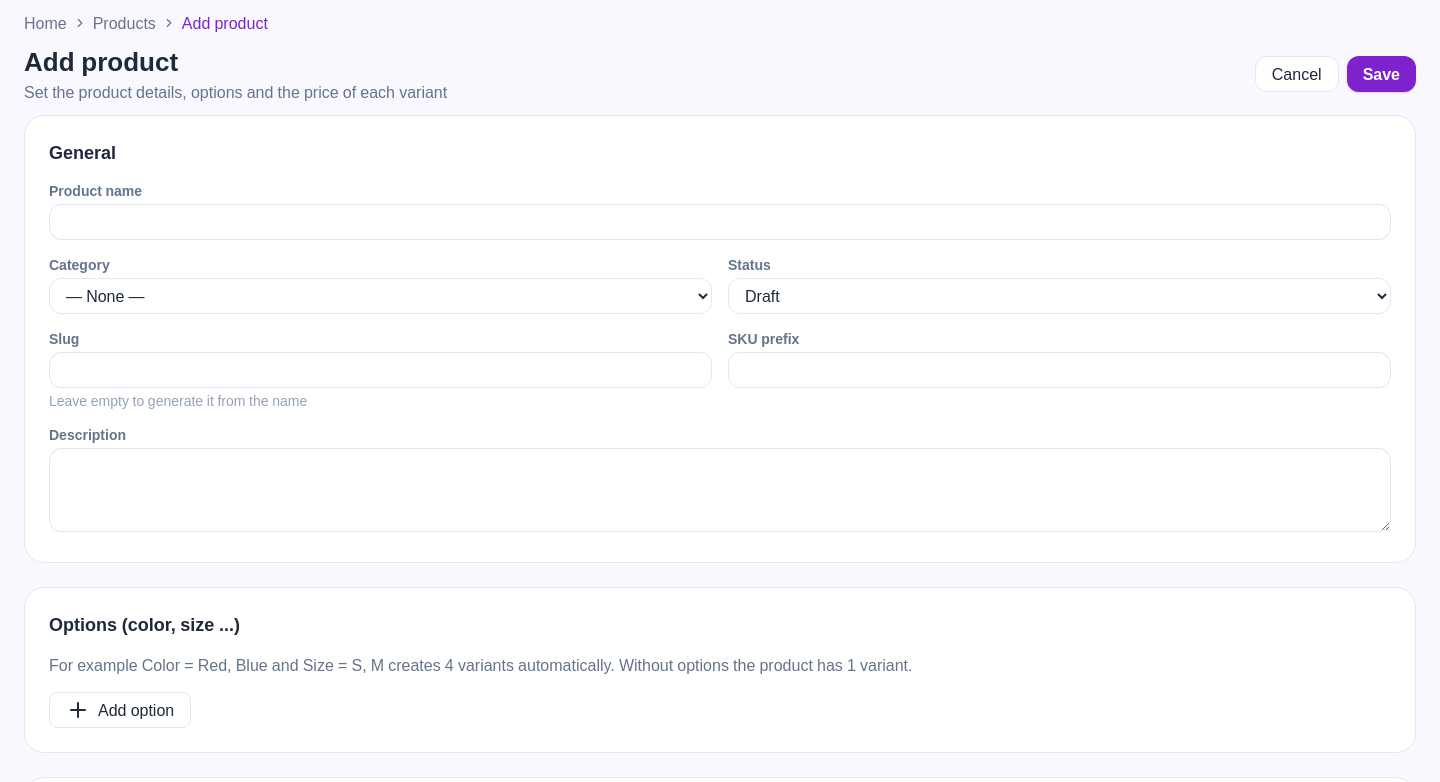
it: ProductCreateForm › an invalid form posts nothing, lists the messages in the alert region and focuses it
This screenshot has width=1440, height=782.
Click the button "Save".
click(1381, 74)  # box [1347,56,1416,92]
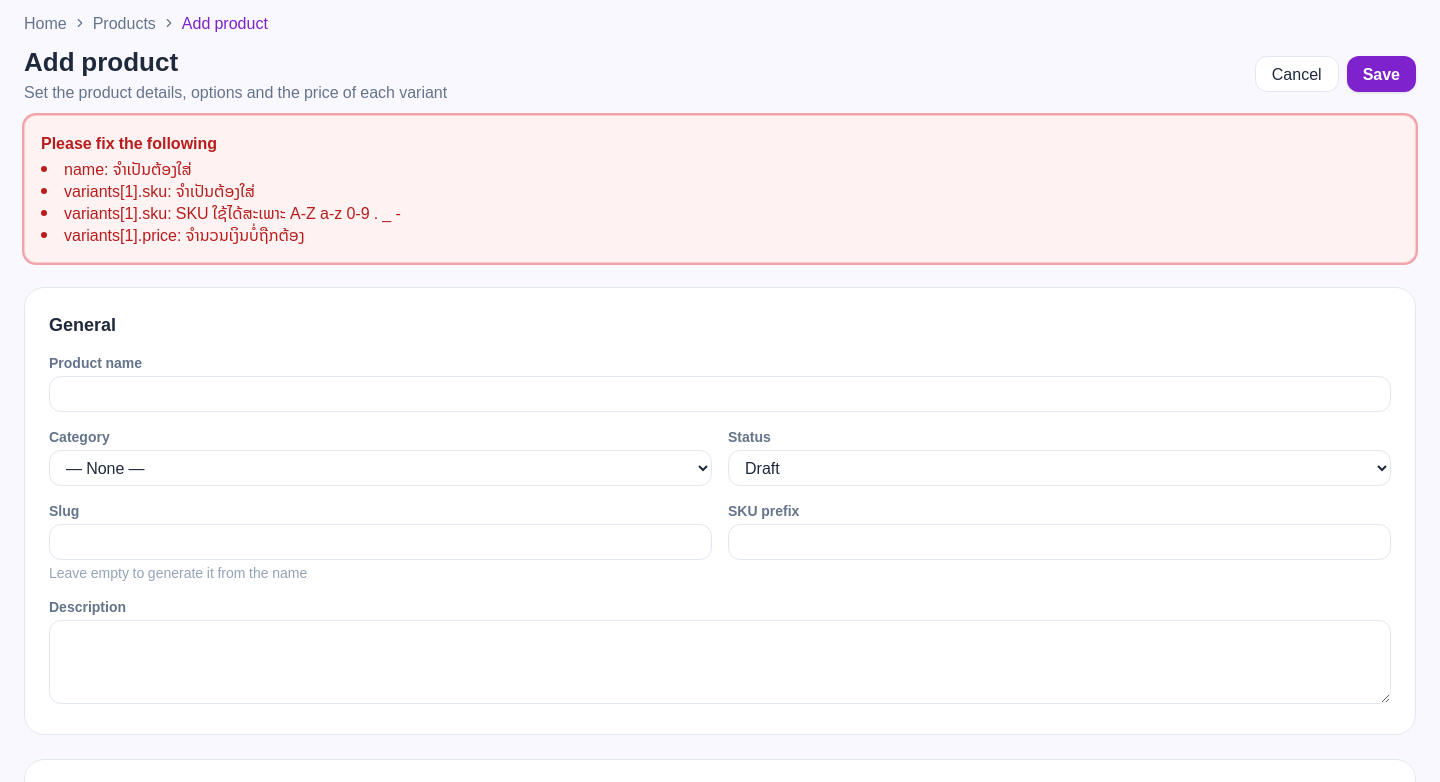
Check: the message shows "Please fix the following", box [41,130,217,156]
Check: the list item "name: ຈຳເປັນຕ້ອງໃສ່" is shown, box [64,156,192,182]
